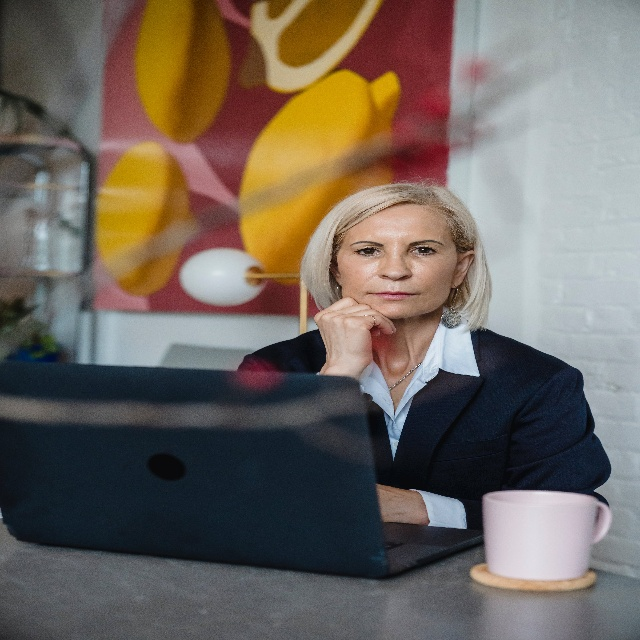Sin_guantes: (313, 294, 398, 381), (374, 482, 424, 526)
